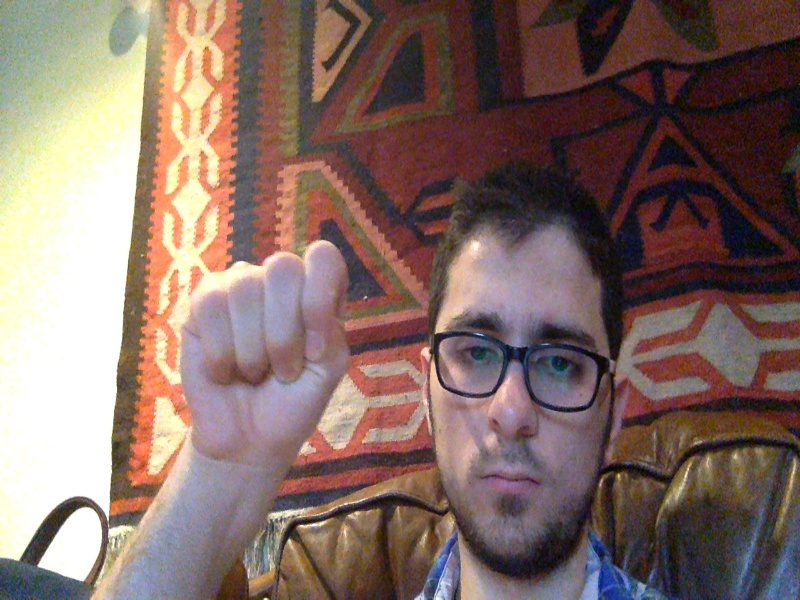0-hand: (180, 240, 354, 456)
